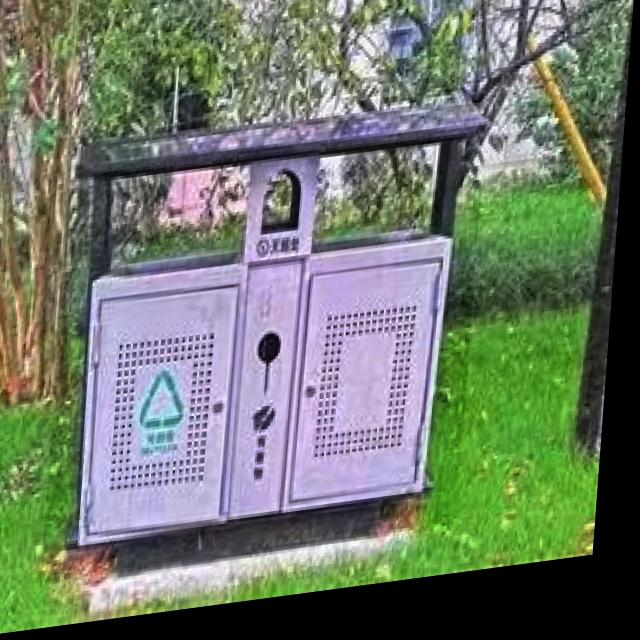garbage_bin: (50, 98, 491, 585)
